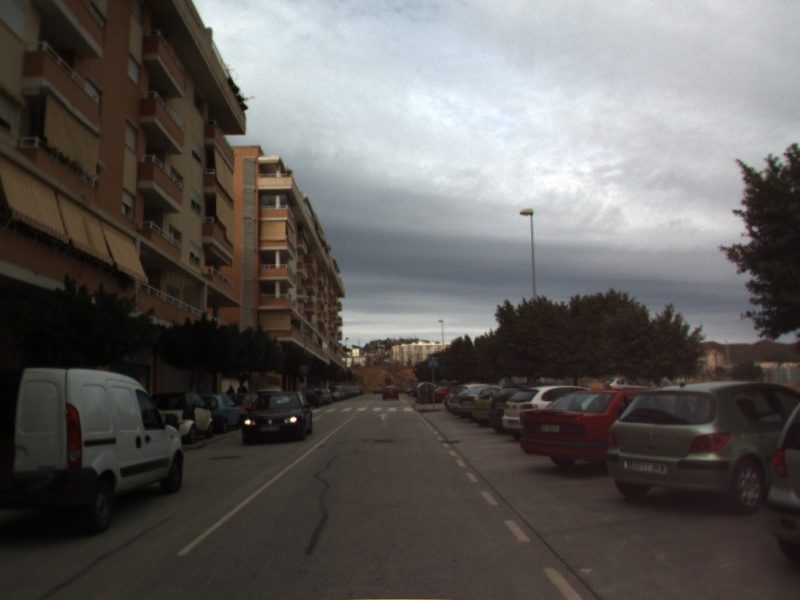STRAIGHT: (375, 411, 393, 422)
